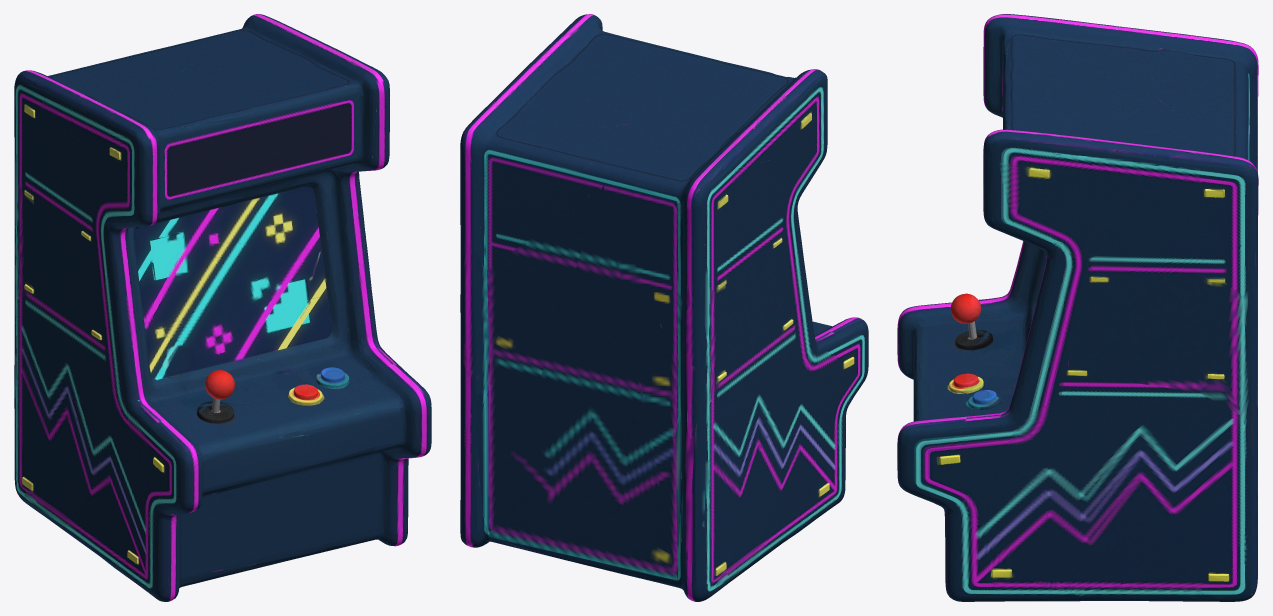
File: maquina-fondo-laberinto.glb
The picture shows the model from 3 angles, left to right: view 1: azimuth 30°, elevation 25°; view 2: azimuth 150°, elevation 25°; view 3: azimuth 270°, elevation 25°; orthographic projection. The views are drawn at different scales.
Parts seen in each view (by area): view 1: Mesh_0; view 2: Mesh_0; view 3: Mesh_0.
Boxes of the visible parts, bbox=[...] form: Mesh_0: bbox=[14, 14, 431, 601]; Mesh_0: bbox=[460, 14, 868, 601]; Mesh_0: bbox=[897, 14, 1258, 601].
Size of the model in its own units: 1.11 by 1.9 by 1.32.
1 material, 1 textured.
